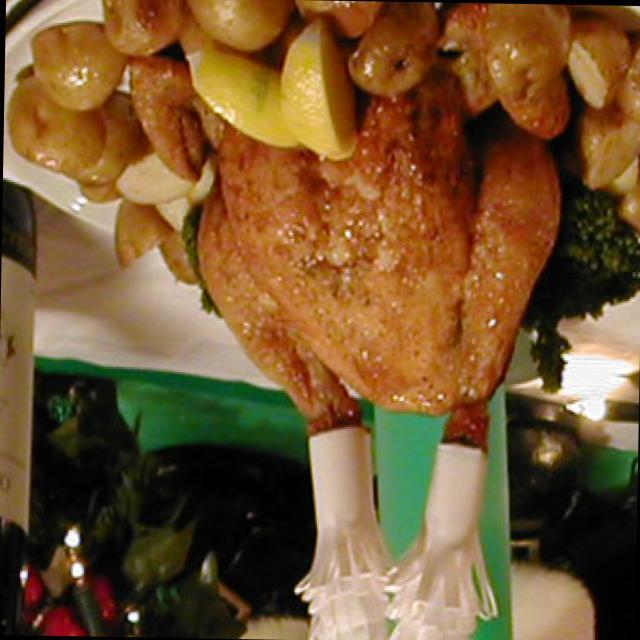Chicken: (192, 123, 558, 434)
